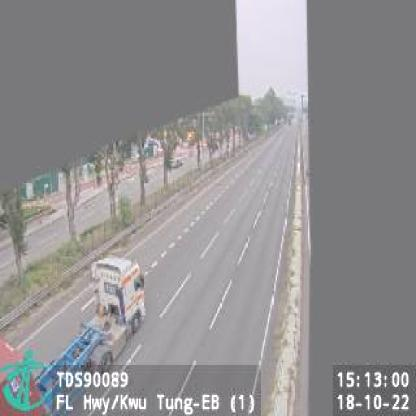Truck: (9, 260, 145, 414)
